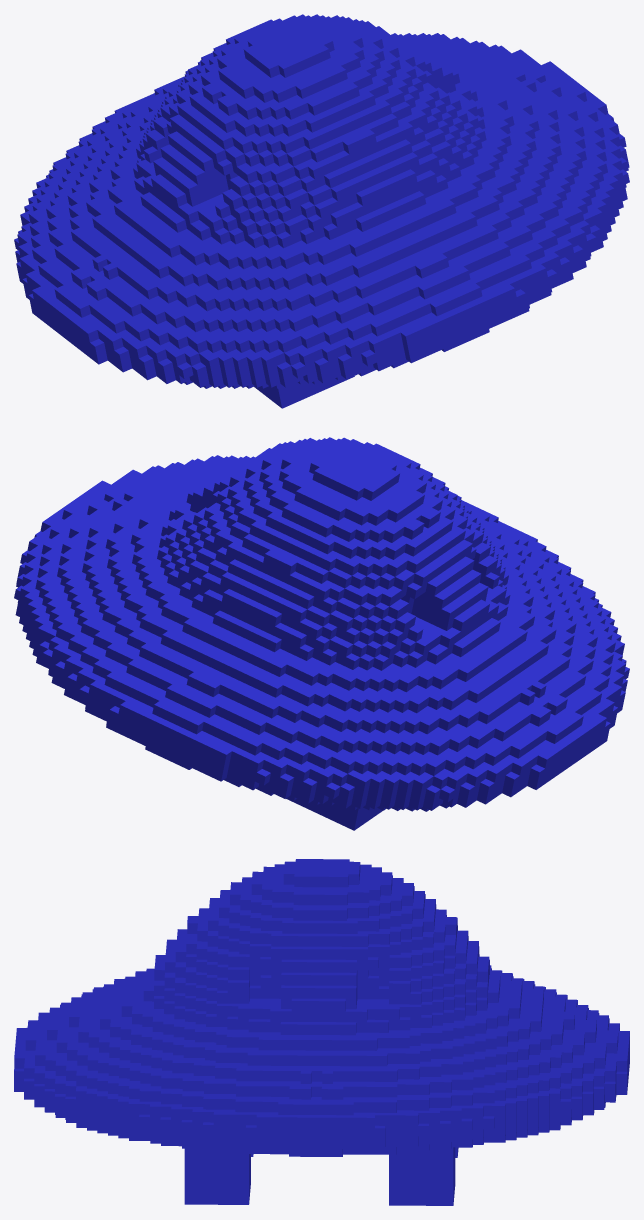
Rendered from nave1.fbx.
The picture shows the model from 3 angles, top to bottom: view 1: azimuth 30°, elevation 25°; view 2: azimuth 150°, elevation 25°; view 3: azimuth 270°, elevation 25°; orthographic projection.
Parts seen in each view (by area): view 1: base.006; view 2: base.006; view 3: base.006.
Boxes of the visible parts, x1,y1,x2,y2 form: base.006: (14, 14, 629, 408); base.006: (14, 437, 629, 830); base.006: (14, 859, 629, 1205).
Bounding box in the file's own units: 187 × 105 × 189.
